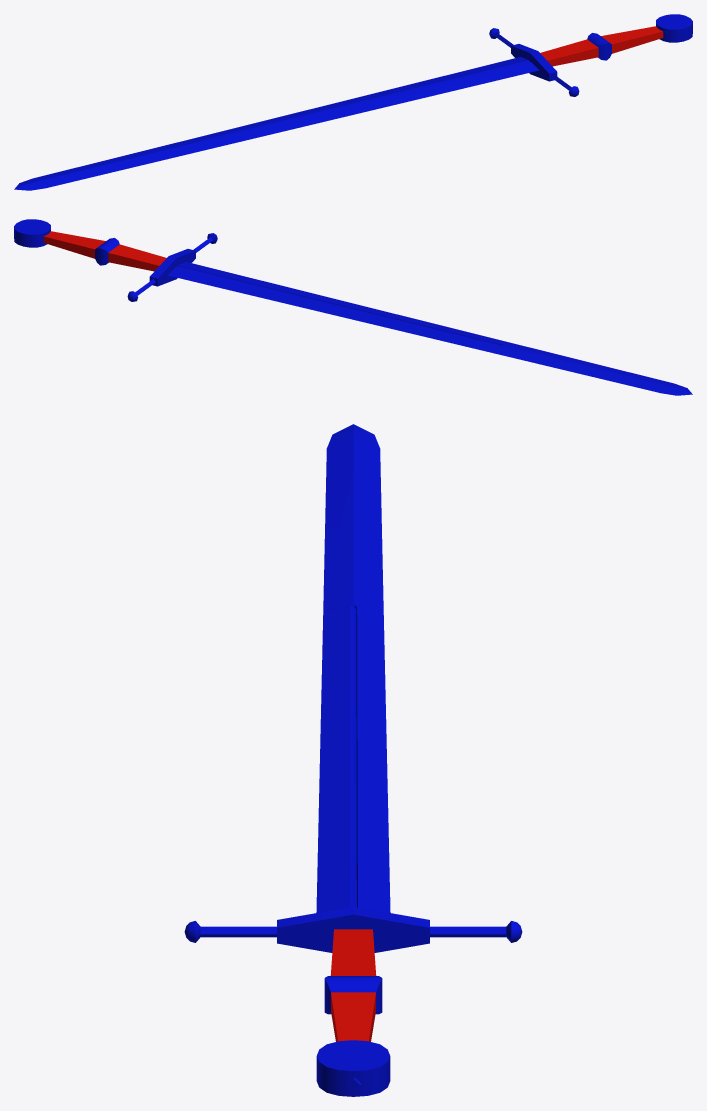
Rendered from Espada.fbx.
3 views of the same model, one above another, from view 1: azimuth 30°, elevation 25°; view 2: azimuth 150°, elevation 25°; view 3: azimuth 270°, elevation 25° (orthographic). The views are drawn at different scales.
Parts seen in each view (by area): view 1: Espada compleja v3; view 2: Espada compleja v3; view 3: Espada compleja v3.
Part boxes in pixels (x1=…): Espada compleja v3: x1=14, y1=14, x2=692, y2=190; Espada compleja v3: x1=14, y1=219, x2=692, y2=395; Espada compleja v3: x1=184, y1=424, x2=522, y2=1096.
Size of the model in its own units: 102 by 3.05 by 22.08.
